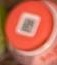2d: (18, 13, 38, 35)
